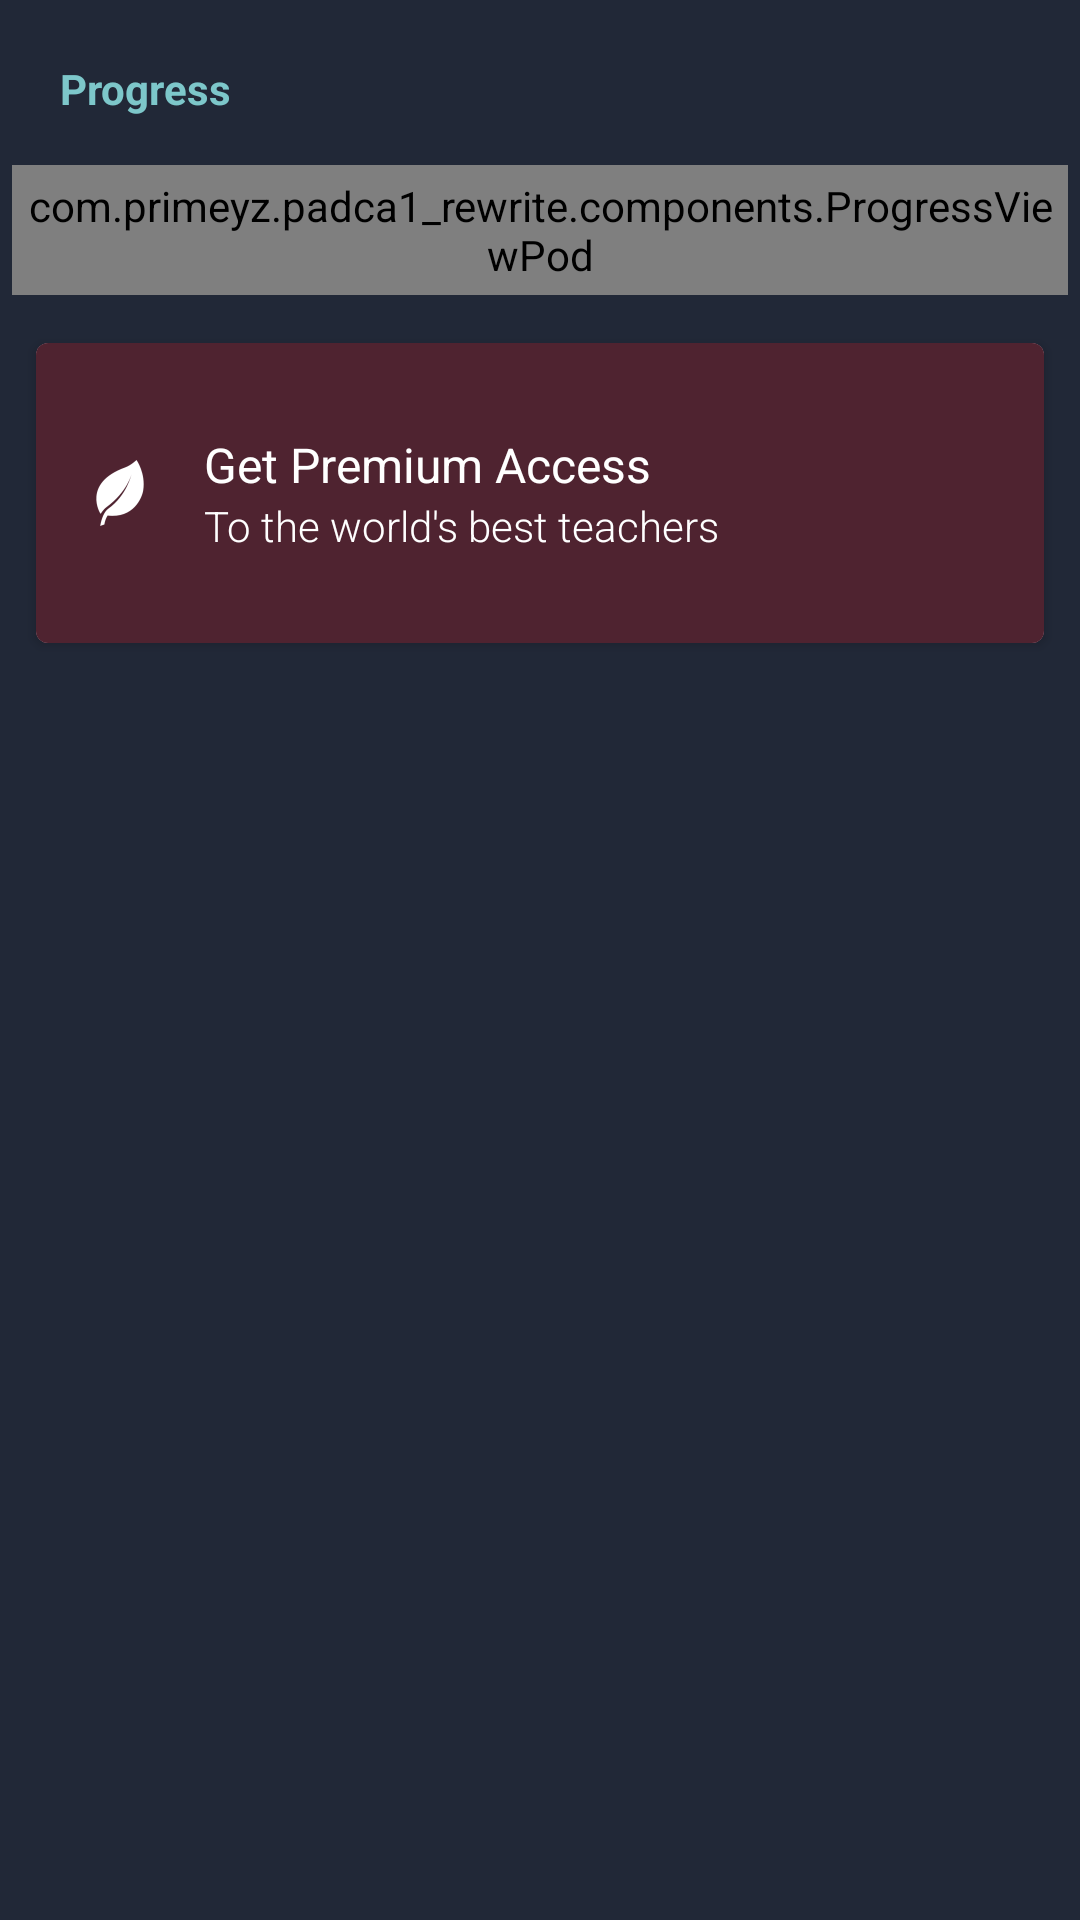

Point at icon controls on the screen. Image size 1080w x 1920h, points as (x=x, y=y).
leaf: (x=120, y=493)
